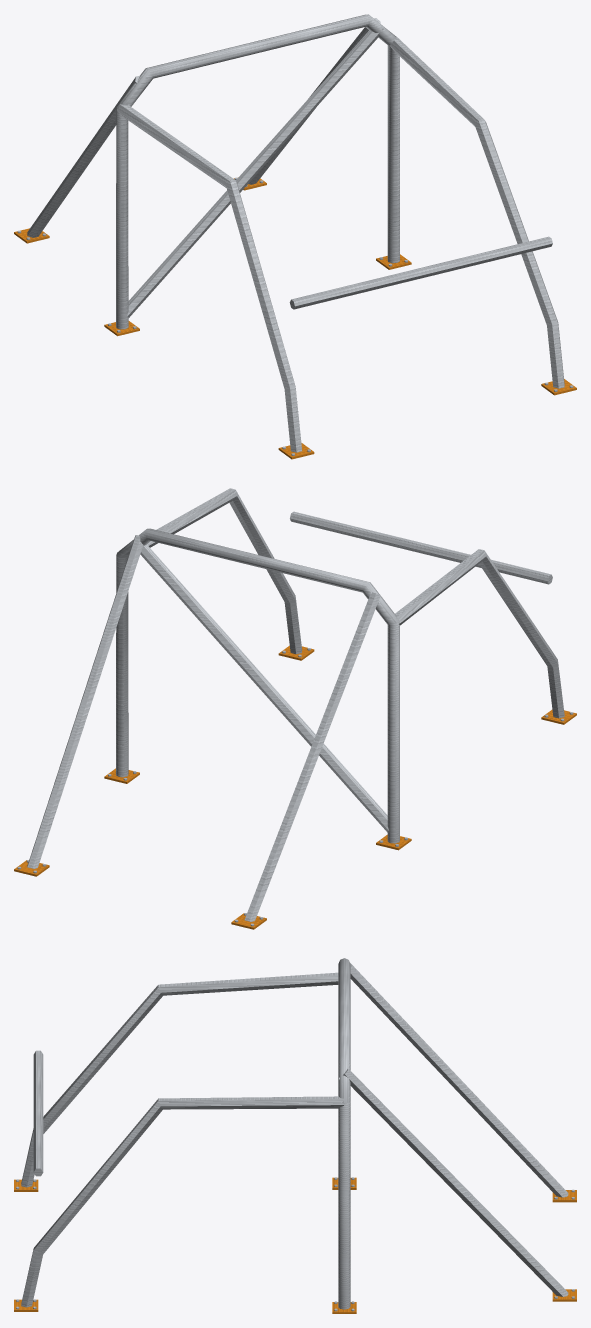
Rendered from gaiola_n3.glb.
3 views of the same model, one above another, from view 1: azimuth 30°, elevation 25°; view 2: azimuth 150°, elevation 25°; view 3: azimuth 270°, elevation 25° (orthographic). The views are drawn at different scales.
Parts seen in each view (by area): view 1: gaiola_n3; view 2: gaiola_n3; view 3: gaiola_n3.
Boxes of the visible parts, x1=… form: gaiola_n3: x1=14, y1=14, x2=576, y2=459; gaiola_n3: x1=14, y1=488, x2=576, y2=929; gaiola_n3: x1=14, y1=958, x2=576, y2=1313.
Size of the model in its own units: 1.3 by 1.09 by 2.3.
1 material, 1 textured.
